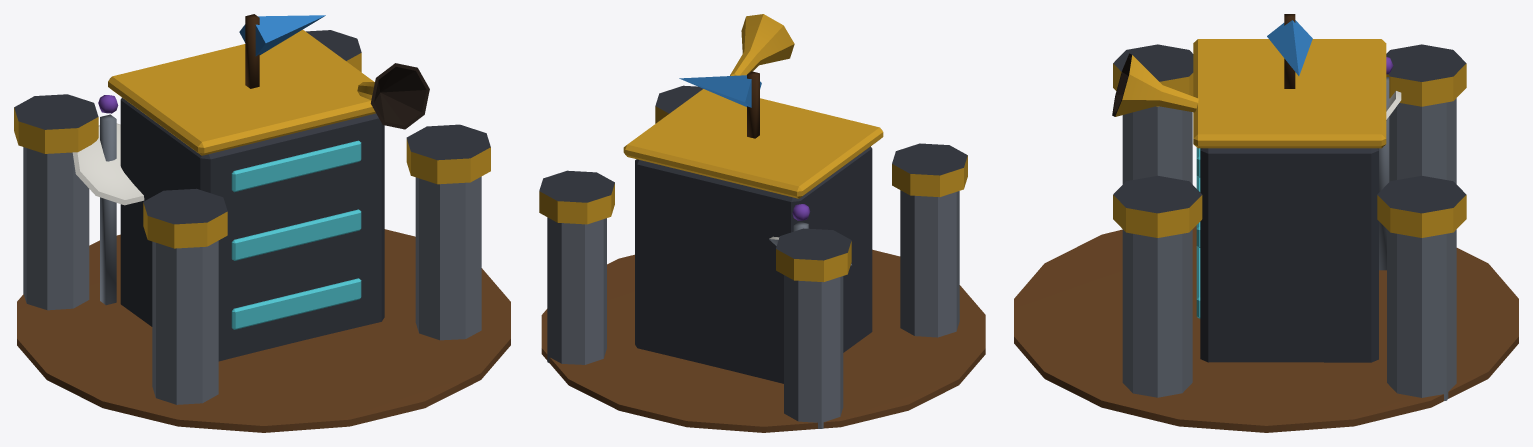
3 views of the same model, side by side, from view 1: azimuth 30°, elevation 25°; view 2: azimuth 150°, elevation 25°; view 3: azimuth 270°, elevation 25° (orthographic). The views are drawn at different scales.
Visible parts, largest first — view 1: vila_0_base, vila_1_torreta; view 2: vila_0_base, vila_1_torreta; view 3: vila_0_base, vila_1_torreta.
Part boxes in pixels (bbox=[...]): vila_0_base: bbox=[14, 30, 510, 432]; vila_1_torreta: bbox=[239, 14, 325, 88]; vila_0_base: bbox=[539, 14, 985, 432]; vila_1_torreta: bbox=[679, 71, 761, 138]; vila_0_base: bbox=[1014, 39, 1518, 432]; vila_1_torreta: bbox=[1267, 14, 1312, 88].
Bounding box in the file's own units: 1.32 × 0.88 × 1.3.
